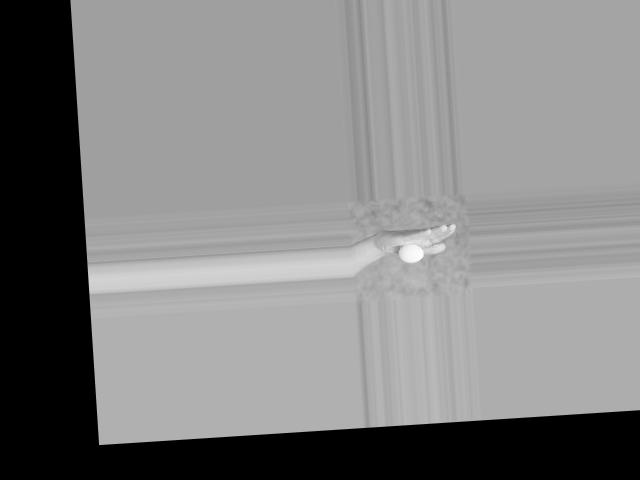egg: (397, 243, 423, 263)
